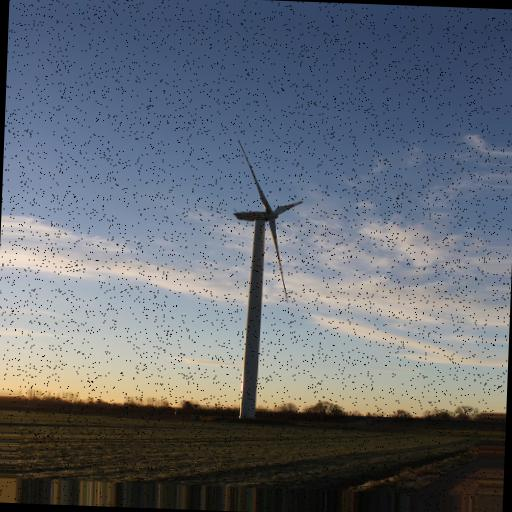wind turbine: (223, 140, 304, 420)
